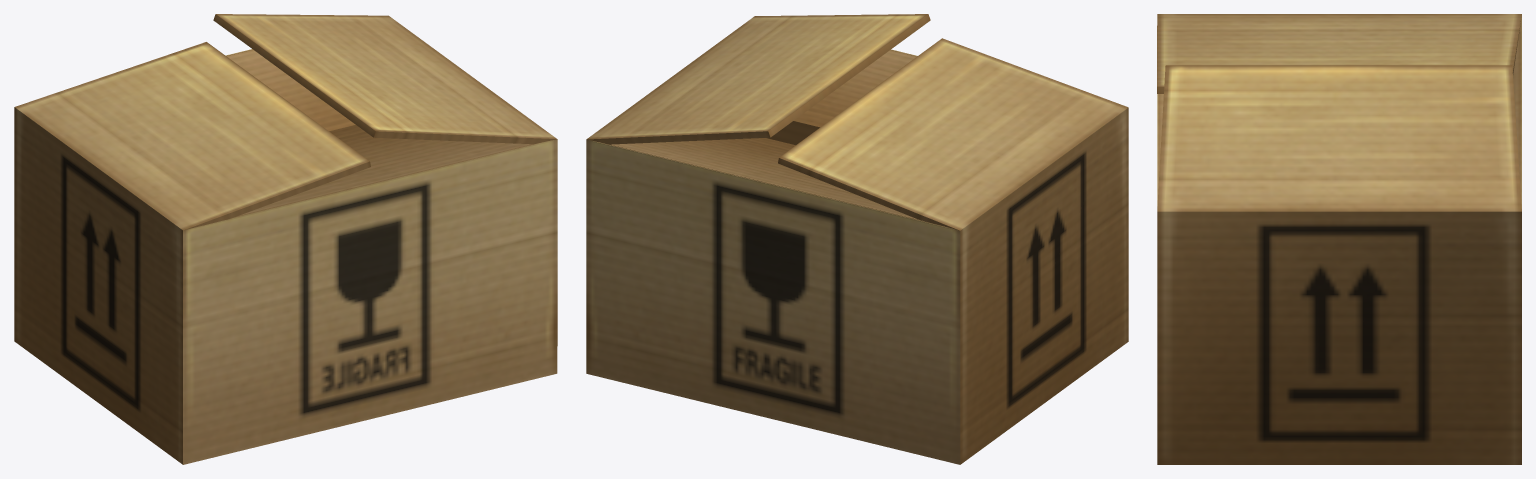
Rendered from ShaShouJia_01_zhixiang_01.FBX.
3 renders of one model, left to right at view 1: azimuth 30°, elevation 25°; view 2: azimuth 150°, elevation 25°; view 3: azimuth 270°, elevation 25°, orthographic. The views are drawn at different scales.
Visible parts, largest first — view 1: ShaShouJia_01_zhixiang_01; view 2: ShaShouJia_01_zhixiang_01; view 3: ShaShouJia_01_zhixiang_01.
Part boxes in pixels (<box>): ShaShouJia_01_zhixiang_01: <box>14,14,557,464</box>; ShaShouJia_01_zhixiang_01: <box>586,14,1128,464</box>; ShaShouJia_01_zhixiang_01: <box>1157,14,1521,464</box>.
Bounding box in the file's own units: 282 × 204 × 220.
